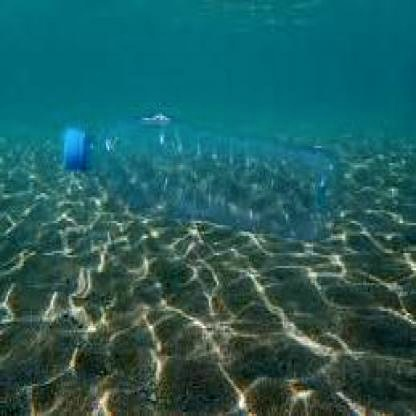pbottle: (56, 105, 341, 247)
